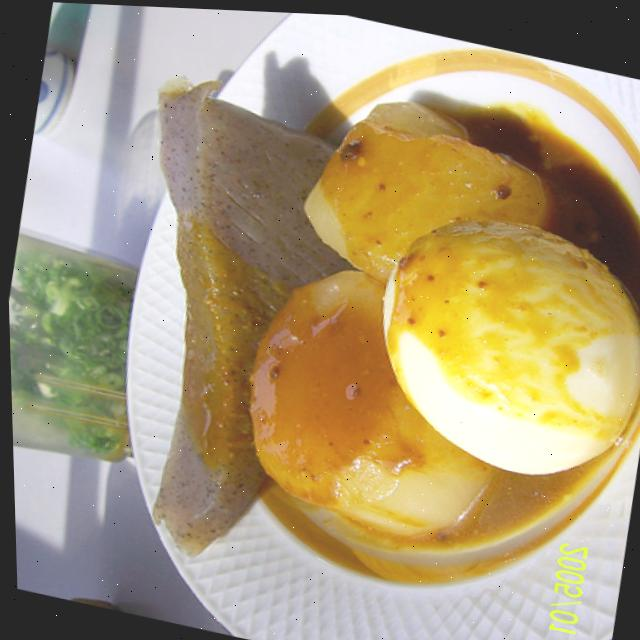汤锅炖物: (70, 34, 640, 640)
